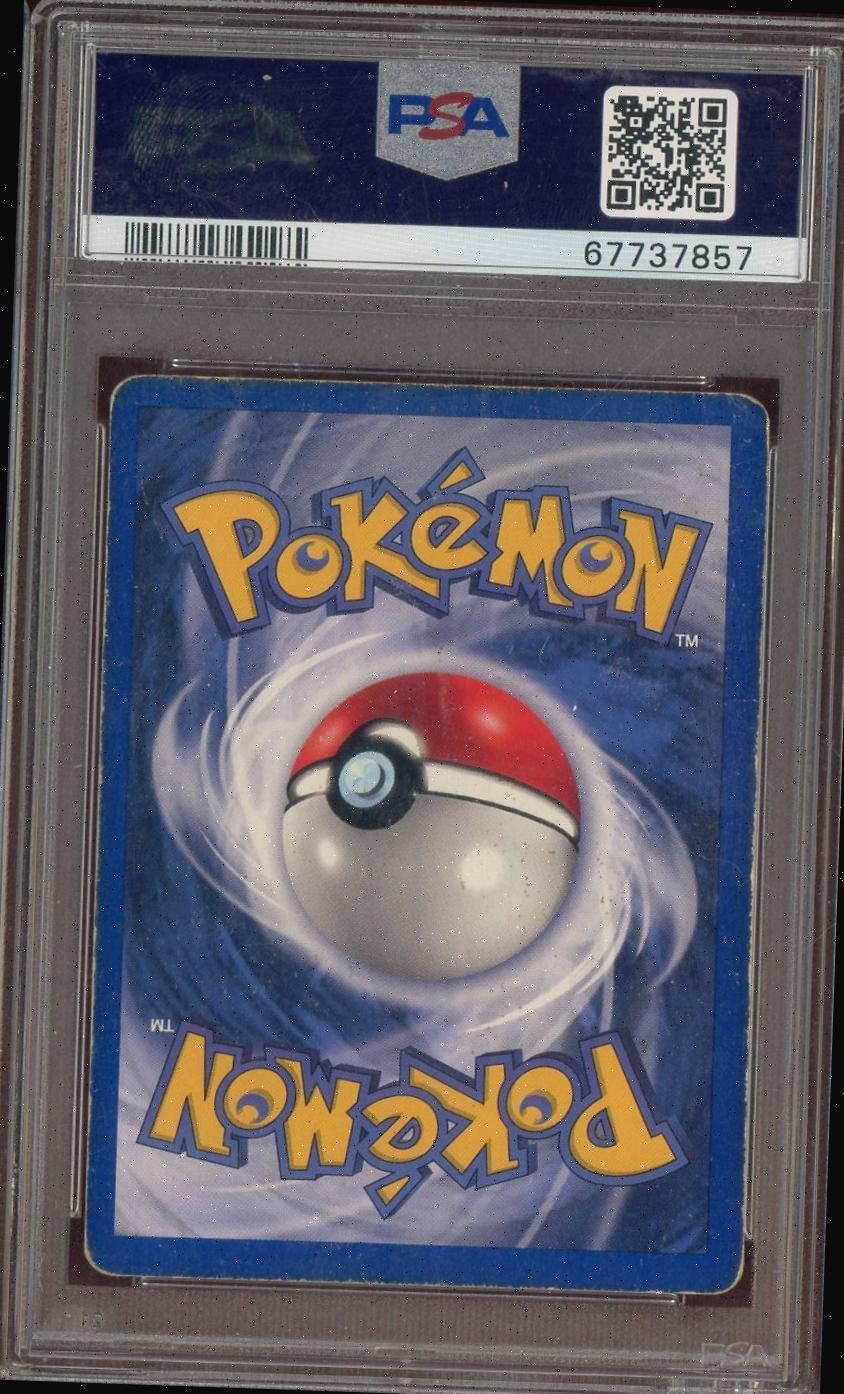card-2UtV: (82, 373, 770, 1296)
